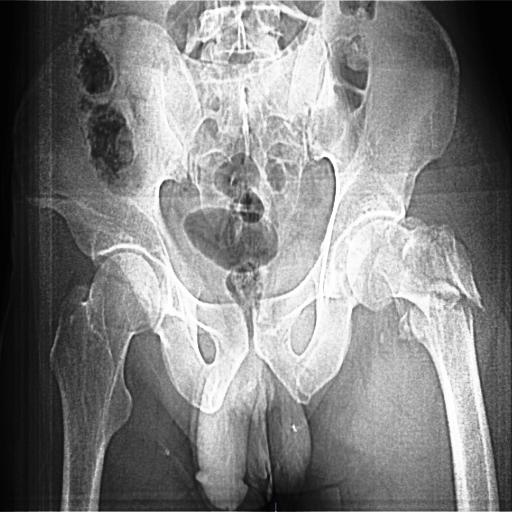grater-trochanter: (437, 223, 487, 314)
intertrochanteric: (347, 219, 462, 326), (404, 293, 483, 412)
lesser-trochanter: (398, 312, 412, 342)
normal: (50, 252, 161, 510)
